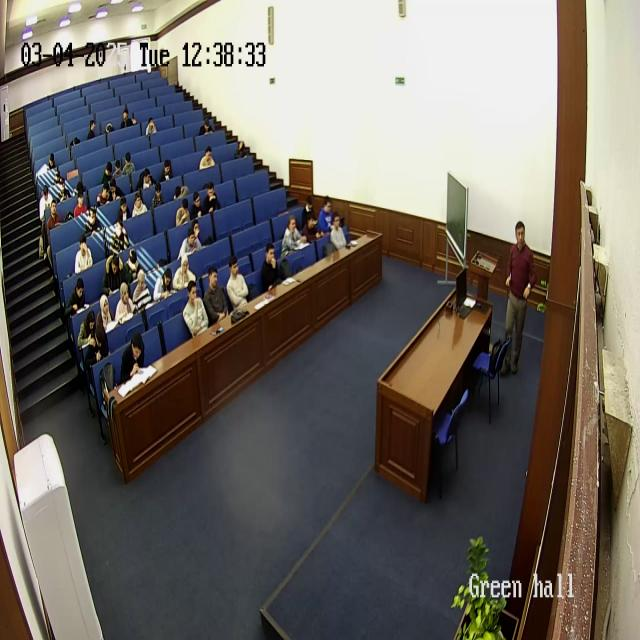person: (501, 222, 535, 374), (181, 281, 209, 339), (119, 332, 147, 387), (204, 267, 230, 325), (78, 310, 103, 367), (226, 256, 250, 310), (259, 243, 283, 293), (104, 210, 128, 258), (104, 250, 130, 293), (281, 215, 305, 258), (178, 222, 202, 260), (114, 282, 135, 324), (66, 276, 88, 316), (172, 254, 195, 292), (96, 293, 116, 335), (132, 268, 152, 310), (74, 232, 94, 274), (124, 245, 146, 282), (329, 212, 349, 252), (152, 267, 174, 303), (89, 332, 112, 365), (46, 197, 62, 243), (300, 209, 318, 243), (318, 198, 334, 236), (39, 186, 53, 228), (202, 182, 220, 214), (85, 200, 100, 238), (174, 195, 190, 228), (73, 186, 89, 218), (189, 190, 205, 220), (132, 191, 148, 217), (199, 145, 215, 170), (151, 182, 165, 209), (96, 182, 110, 208), (200, 112, 215, 136), (301, 193, 314, 220), (121, 152, 135, 176), (59, 176, 71, 204), (108, 180, 122, 203), (121, 107, 135, 129), (172, 184, 190, 201), (44, 150, 58, 170), (142, 168, 154, 190), (102, 164, 114, 186), (162, 160, 174, 181), (112, 161, 124, 181), (145, 116, 157, 136), (87, 118, 97, 140)
